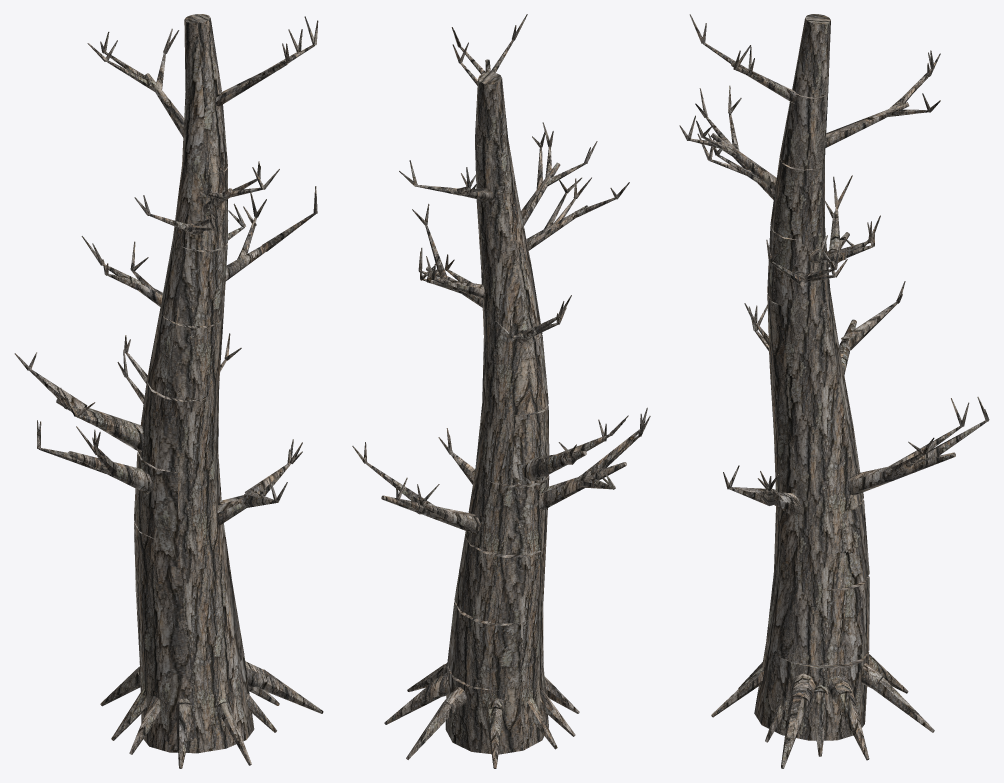
Rendered from spiral-twisted-v01.glb.
The picture shows the model from 3 angles, left to right: view 1: azimuth 30°, elevation 25°; view 2: azimuth 150°, elevation 25°; view 3: azimuth 270°, elevation 25°; orthographic projection. The views are drawn at different scales.
Parts seen in each view (by area): view 1: dead-tree-spiral; view 2: dead-tree-spiral; view 3: dead-tree-spiral.
Part boxes in pixels (bbox=[...]): dead-tree-spiral: bbox=[14, 14, 323, 768]; dead-tree-spiral: bbox=[352, 14, 650, 768]; dead-tree-spiral: bbox=[679, 14, 989, 768].
Bounding box in the file's own units: 3.1 × 8.45 × 3.29.
1 material, 1 textured.
